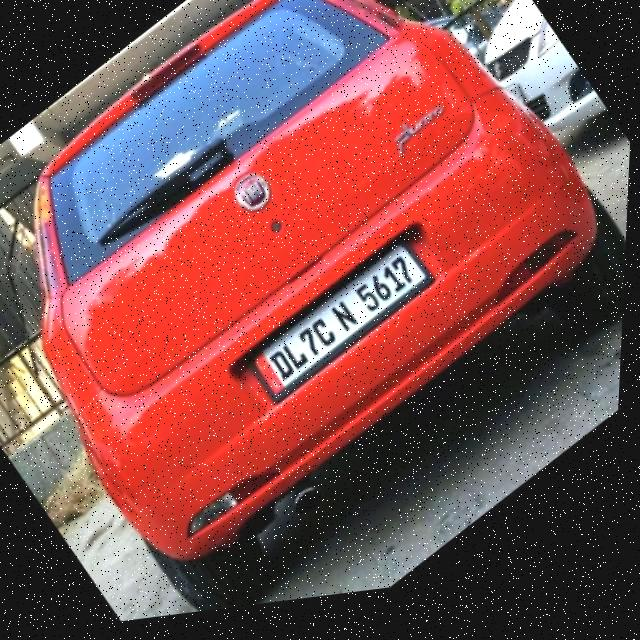license_plate: (254, 250, 436, 410)
